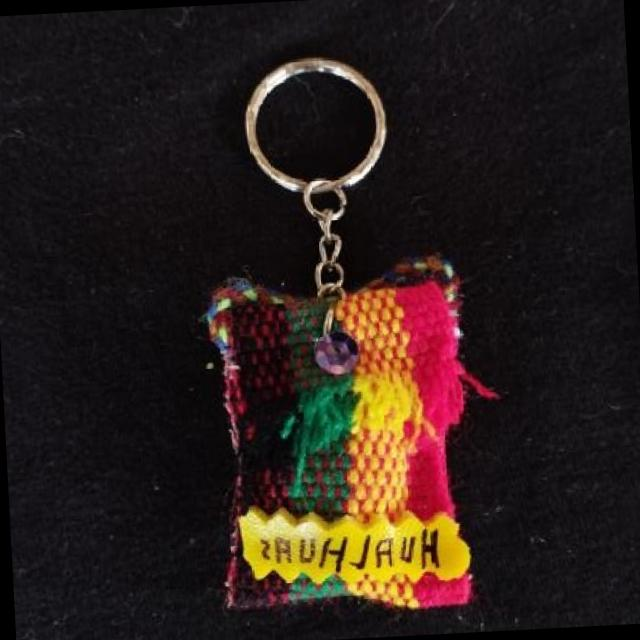Llavero: (197, 248, 508, 621)
